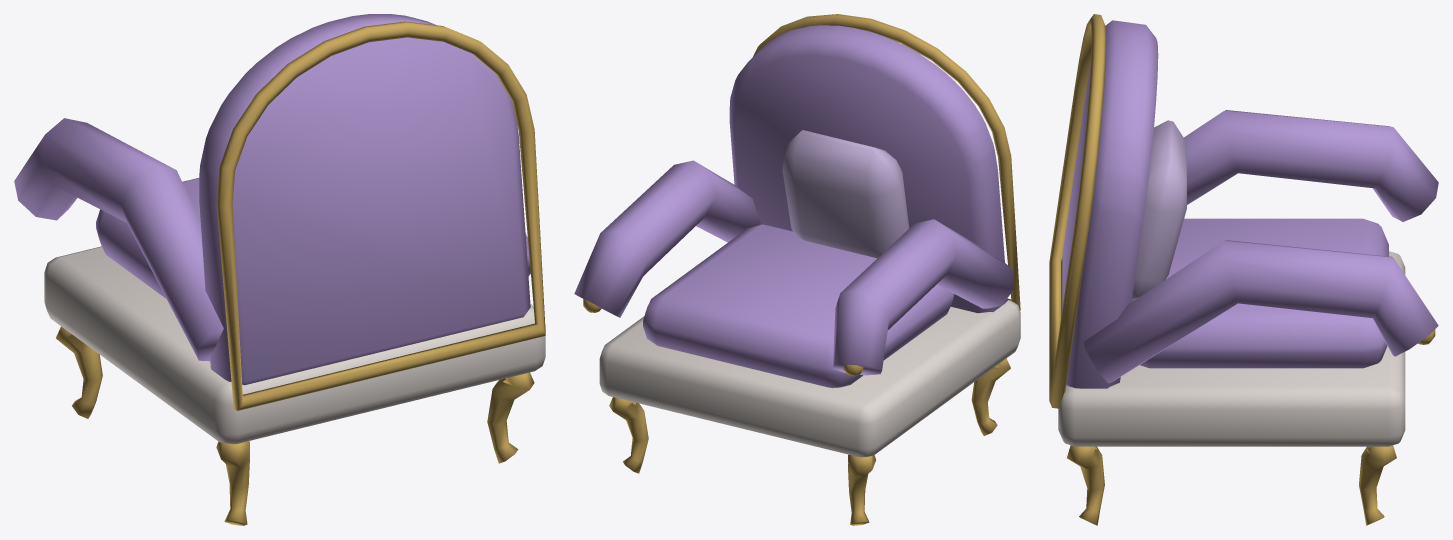
File: armchair.glb
3 views of the same model, side by side, from view 1: azimuth 30°, elevation 25°; view 2: azimuth 150°, elevation 25°; view 3: azimuth 270°, elevation 25° (orthographic). The views are drawn at different scales.
Parts seen in each view (by area): view 1: armchair; view 2: armchair; view 3: armchair.
Part boxes in pixels (x1=…): armchair: x1=14, y1=14, x2=545, y2=525; armchair: x1=574, y1=14, x2=1020, y2=525; armchair: x1=1049, y1=14, x2=1438, y2=525.
Size of what is drawn, in the model's own units: 0.9 by 1.1 by 0.9.
